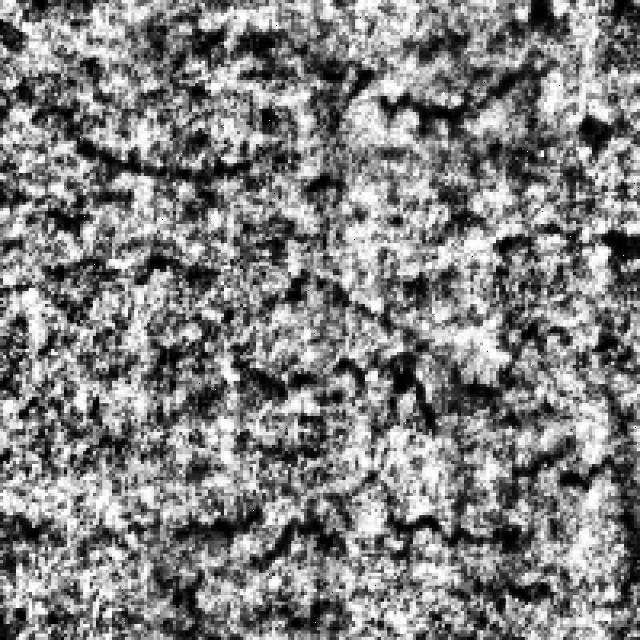Pitted_Surface: (224, 266, 637, 548), (147, 445, 637, 637), (35, 4, 560, 182)
